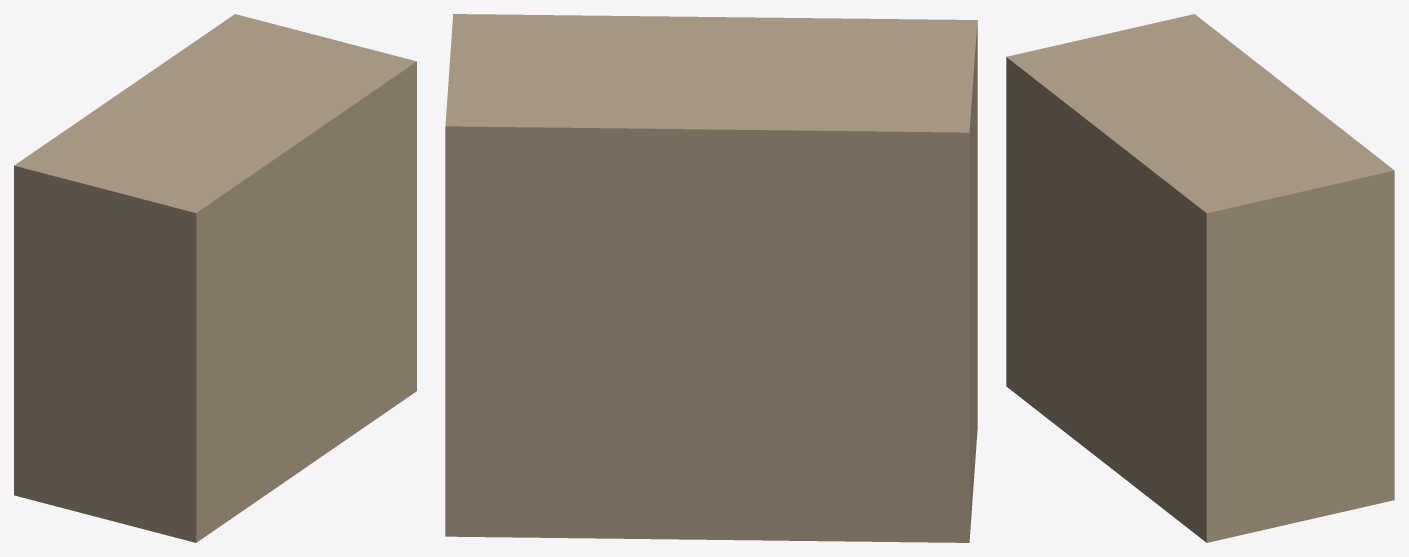
The model's file is bld_106415336.dae.
3 views of the same model, side by side, from view 1: azimuth 30°, elevation 25°; view 2: azimuth 150°, elevation 25°; view 3: azimuth 270°, elevation 25° (orthographic). The views are drawn at different scales.
Visible parts, largest first — view 1: bld_106415336; view 2: bld_106415336; view 3: bld_106415336.
Boxes of the visible parts, box(x1,y1,x2,y2) form: bld_106415336: box(14, 14, 416, 542); bld_106415336: box(445, 14, 977, 542); bld_106415336: box(1006, 14, 1394, 542).
Size of the model in its own units: 10.38 by 8.55 by 8.
